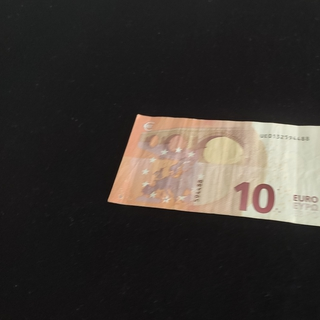10EUROBack: (107, 113, 320, 228)
